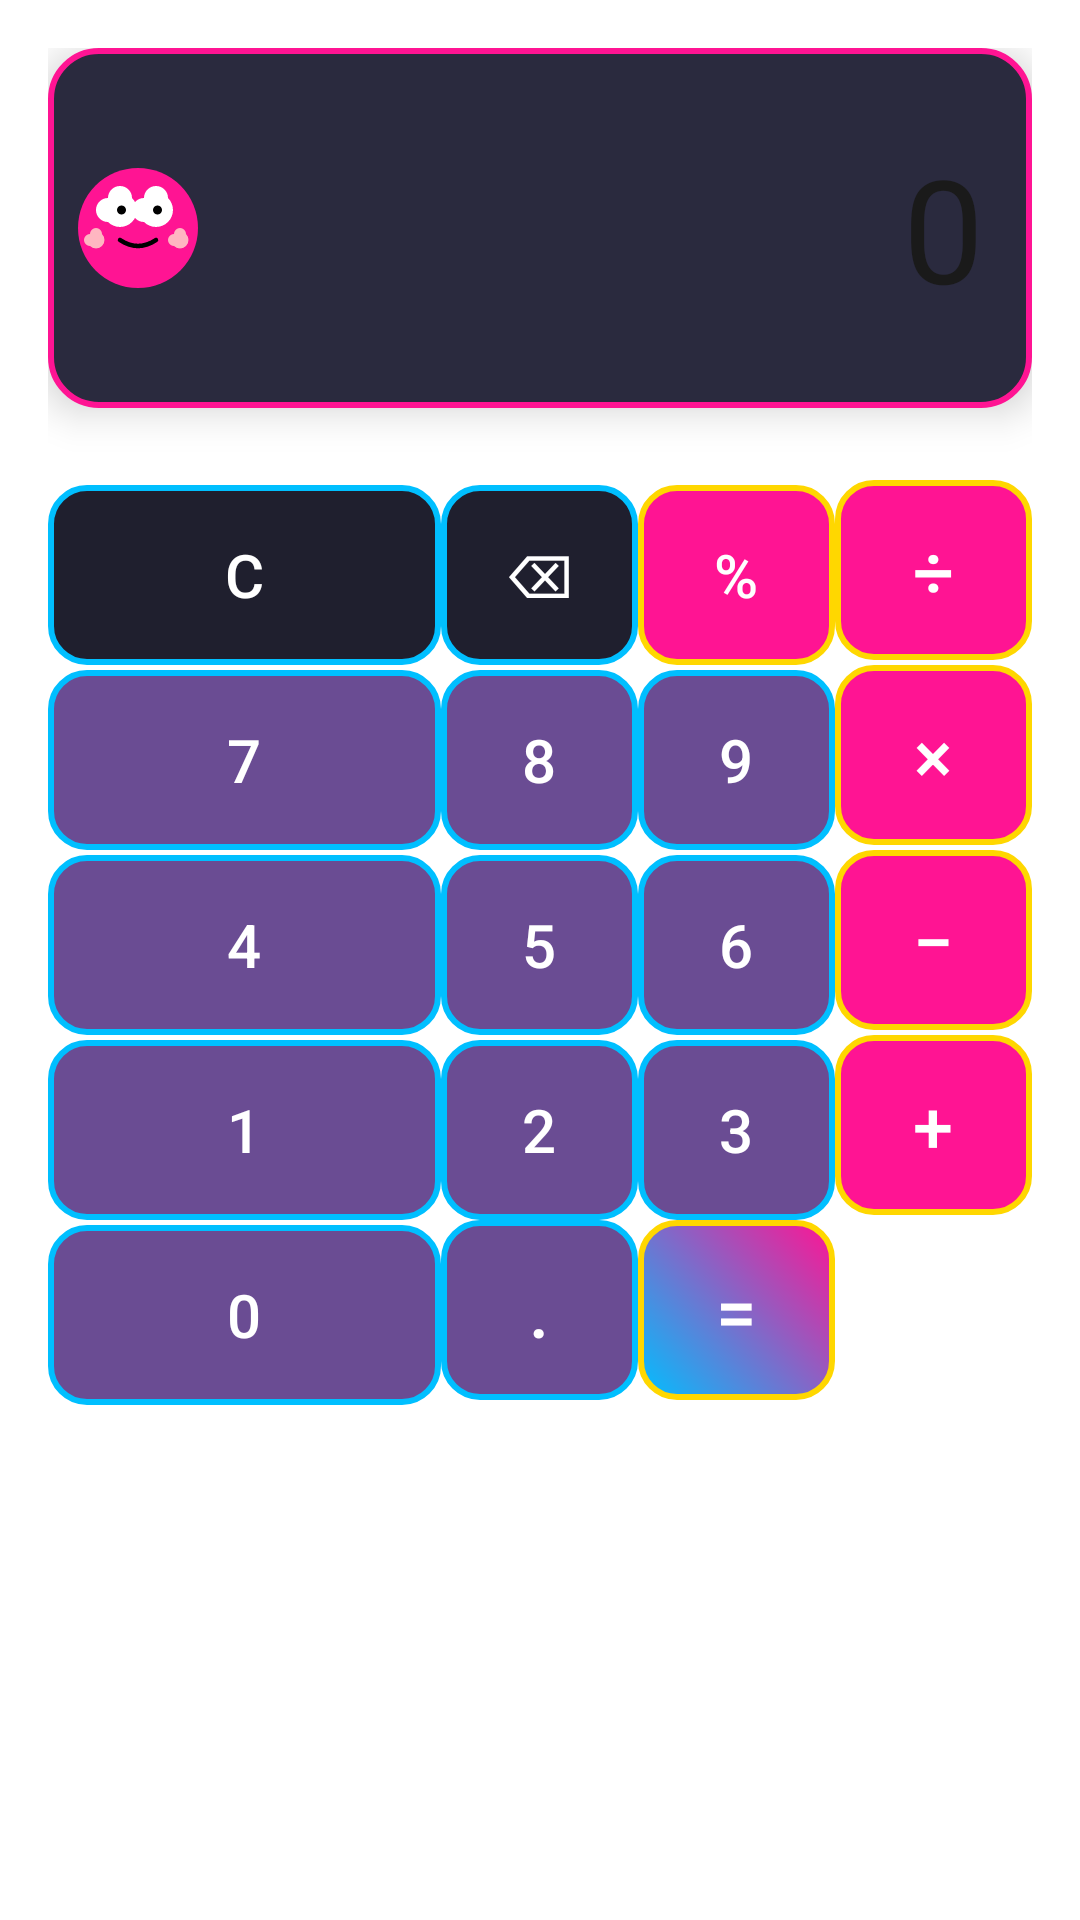

Where to tap for icons on this 1080*1920 app screen, as point (x, y):
Cute mascot: point (138, 228)
